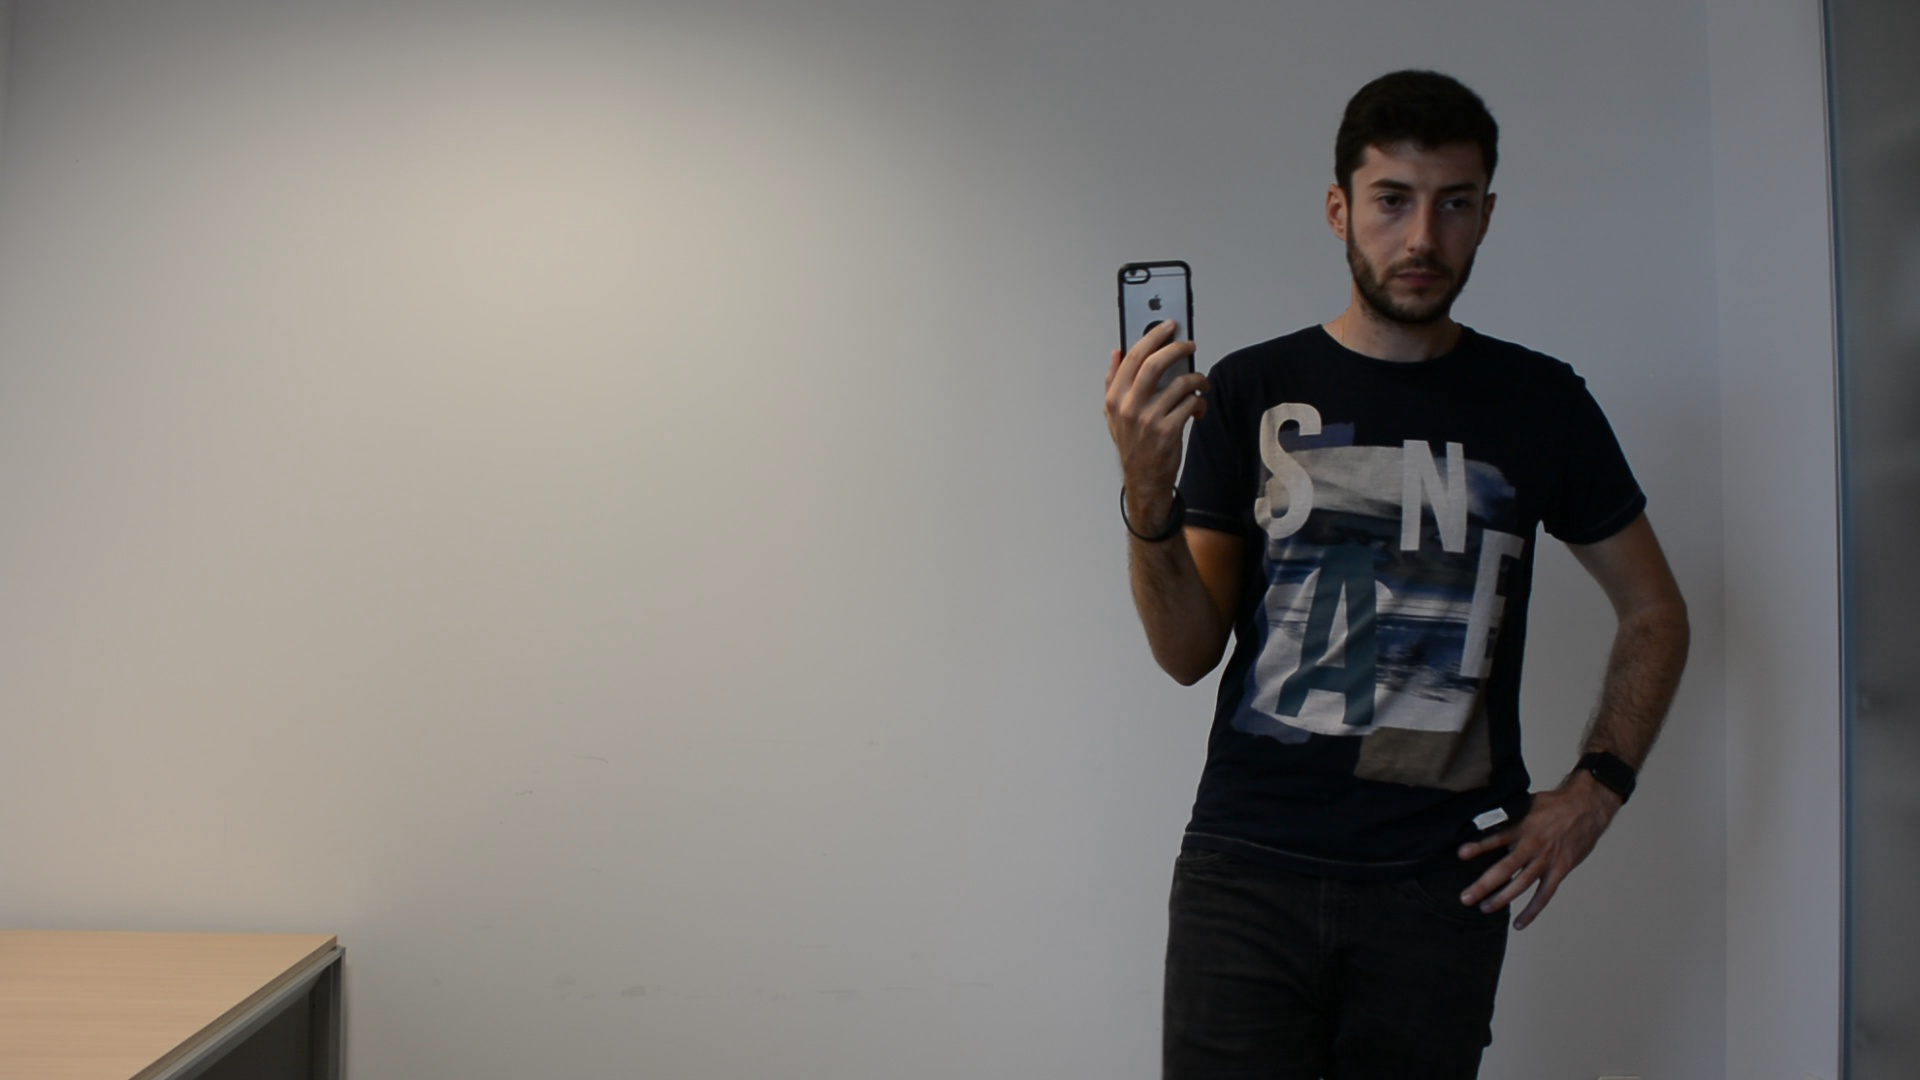smartphone: (1116, 257, 1199, 401)
